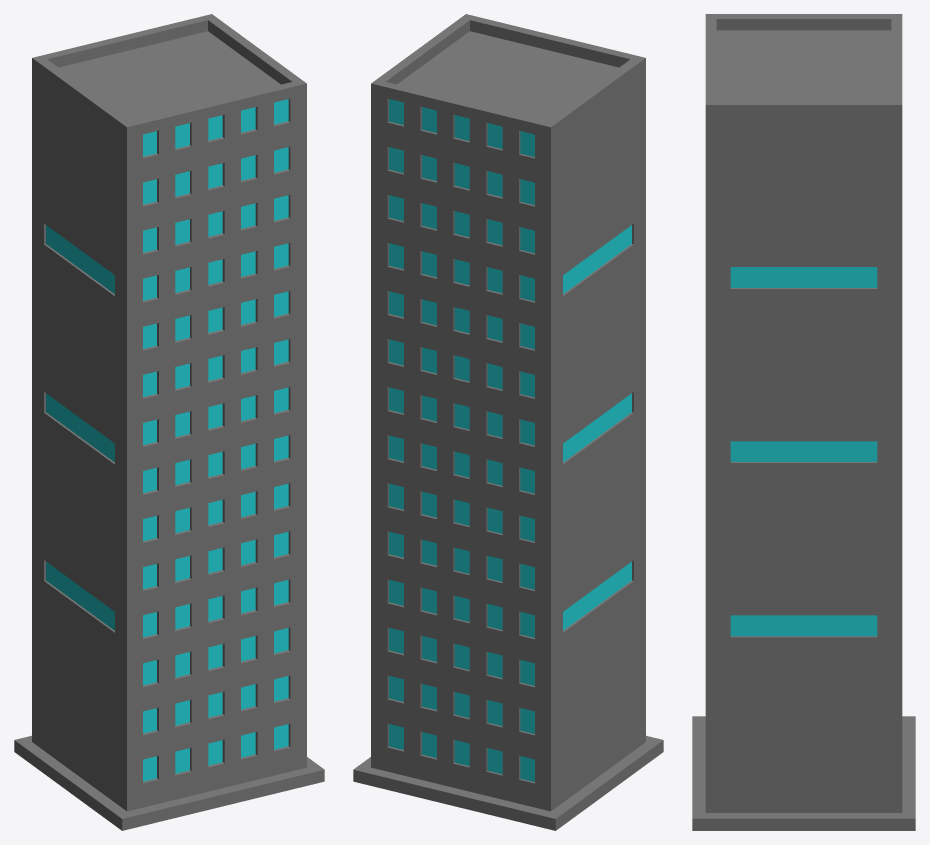
File: Skyscraper 4.fbx
The picture shows the model from 3 angles, left to right: view 1: azimuth 30°, elevation 25°; view 2: azimuth 150°, elevation 25°; view 3: azimuth 270°, elevation 25°; orthographic projection. The views are drawn at different scales.
Visible parts, largest first — view 1: Cube; view 2: Cube; view 3: Cube.
Part boxes in pixels (x1,y1,x2,y2): Cube: [14, 14, 324, 830]; Cube: [353, 14, 663, 830]; Cube: [692, 14, 915, 830].
Bounding box in the file's own units: 711 × 2334 × 656.
